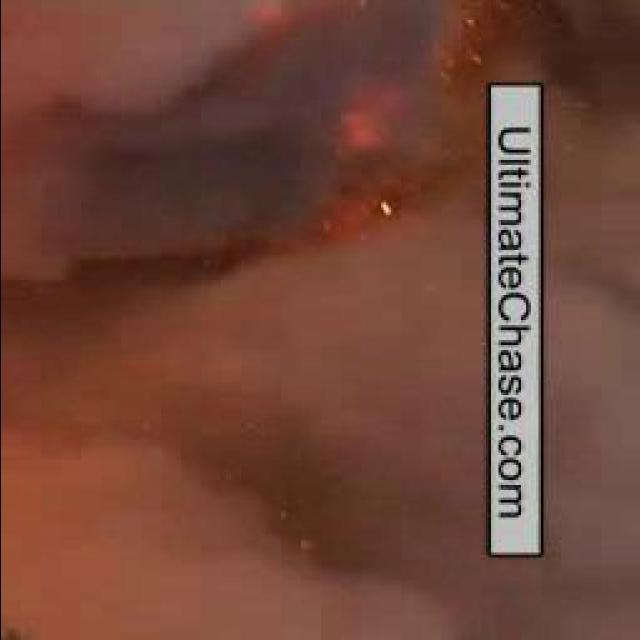Fire: (235, 6, 510, 244)
